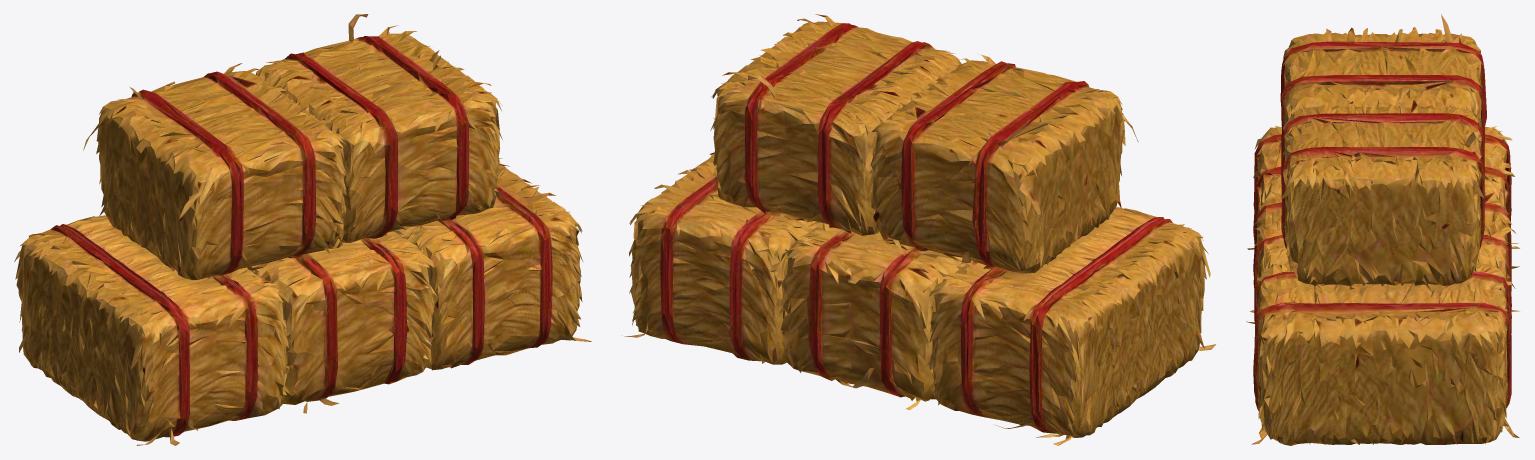
File: prop-hay.glb
3 renders of one model, left to right at view 1: azimuth 30°, elevation 25°; view 2: azimuth 150°, elevation 25°; view 3: azimuth 270°, elevation 25°, orthographic. The views are drawn at different scales.
Bounding box in the file's own units: 1.9 × 1.1 × 1.03.
Materials: 1 (1 with a texture image).
